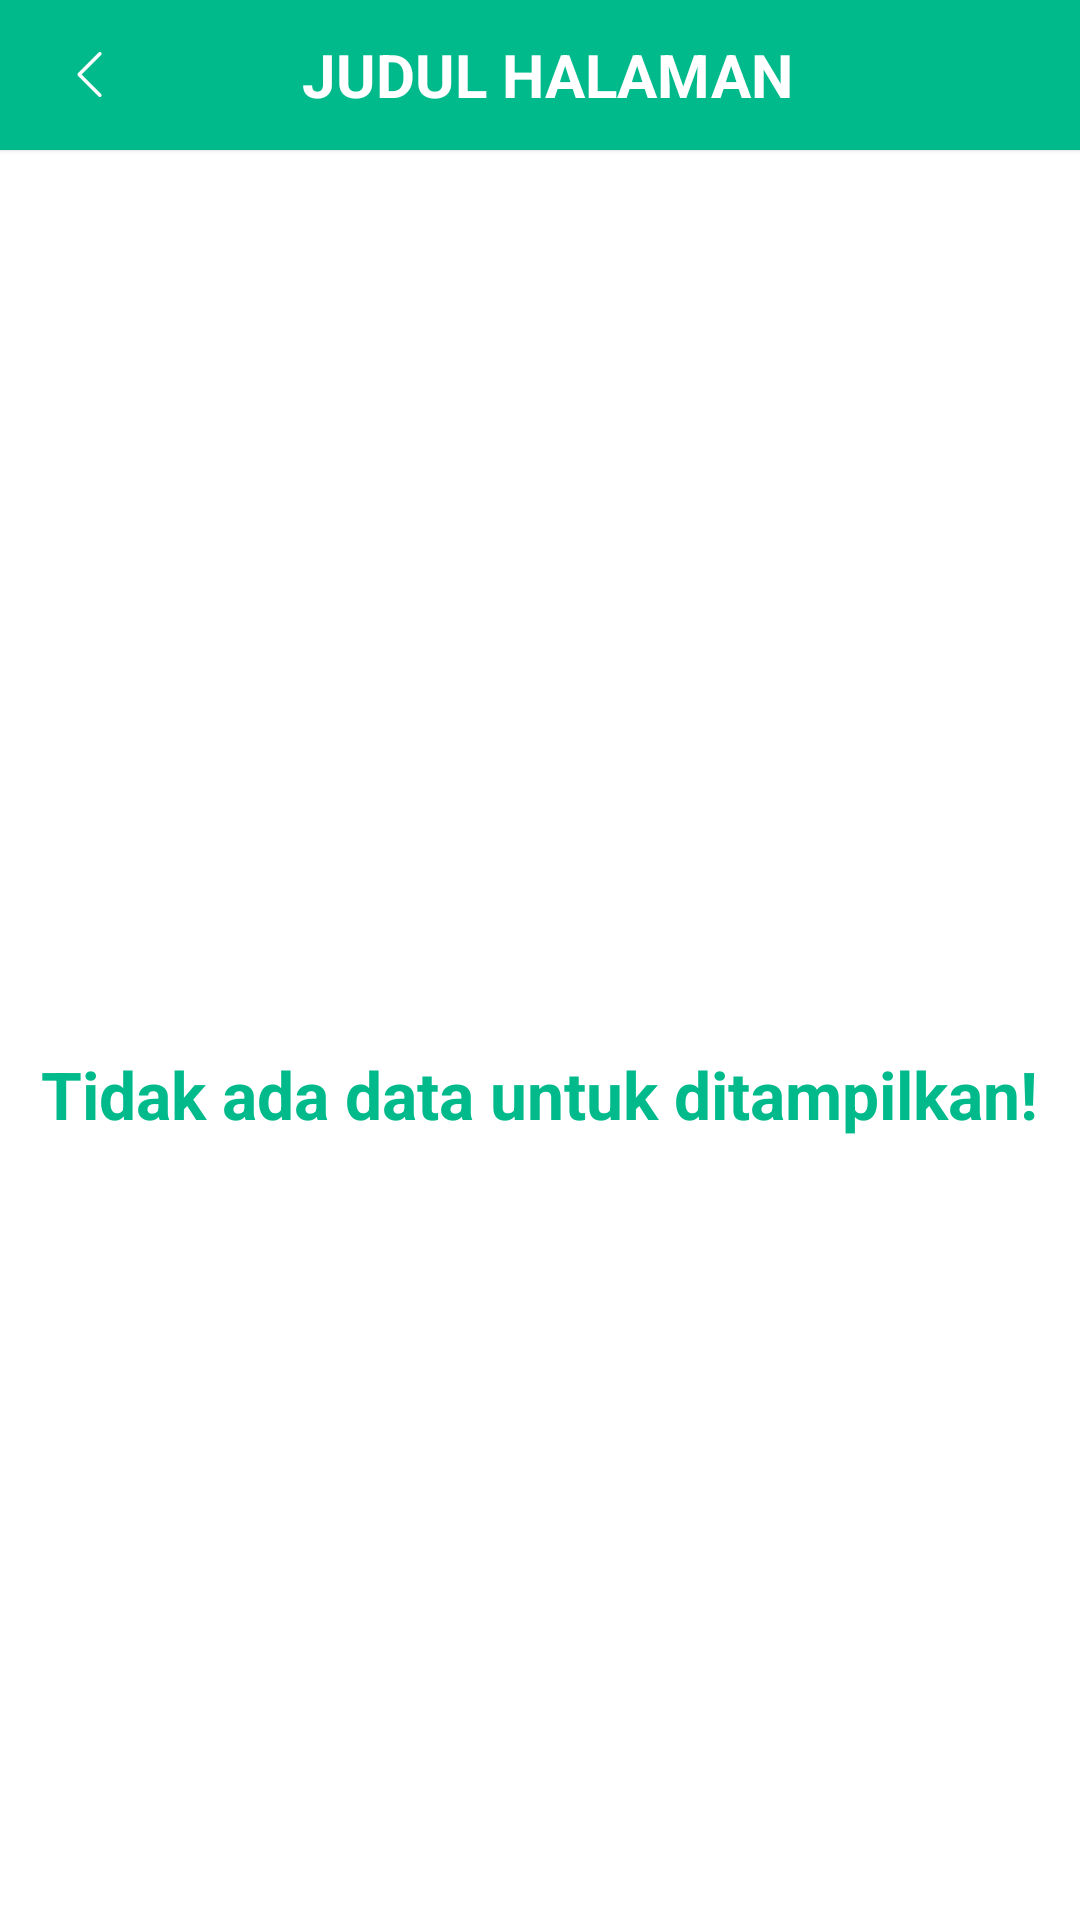

Locate icon controls on the screen. Image size 1080×1920, boxes as (x1, y1, x2, y2).
back: (77, 52, 102, 97)
